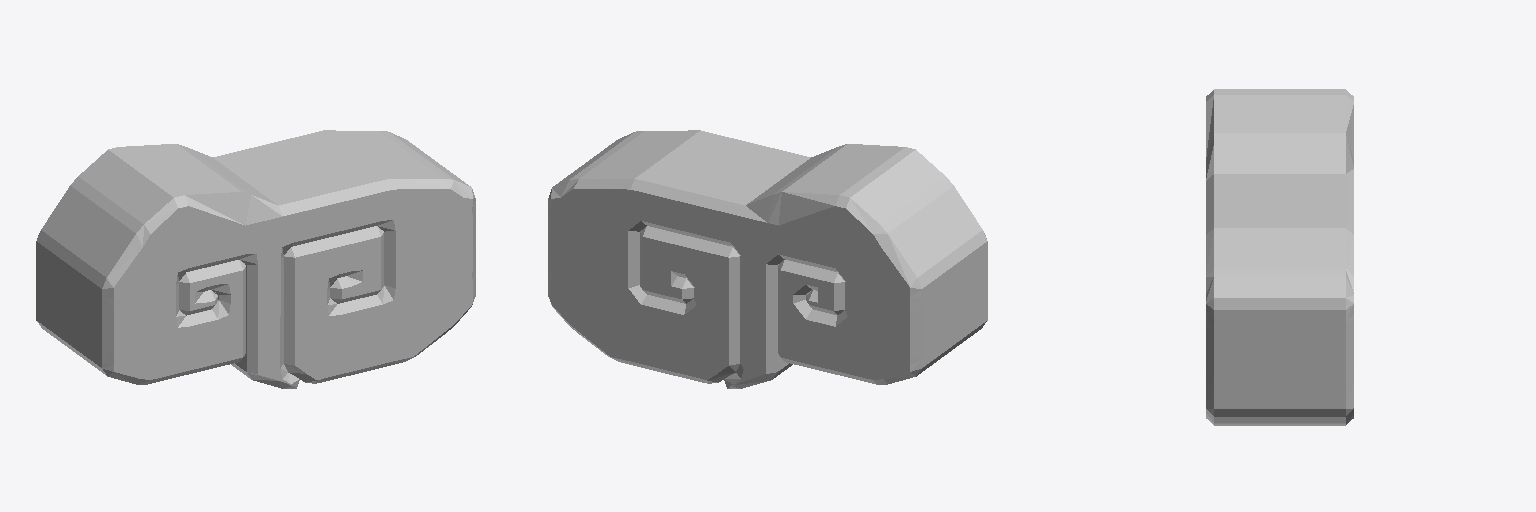
Rendered from TreeBranch_02.obj.
3 renders of one model, left to right at view 1: azimuth 30°, elevation 25°; view 2: azimuth 150°, elevation 25°; view 3: azimuth 270°, elevation 25°, orthographic.
Parts seen in each view (by area): view 1: Branch2; view 2: Branch2; view 3: Branch2.
Part boxes in pixels (bbox=[...]): Branch2: bbox=[36, 130, 475, 388]; Branch2: bbox=[548, 130, 987, 388]; Branch2: bbox=[1206, 89, 1353, 425].
Bounding box in the file's own units: 12.3 × 6.96 × 4.24.